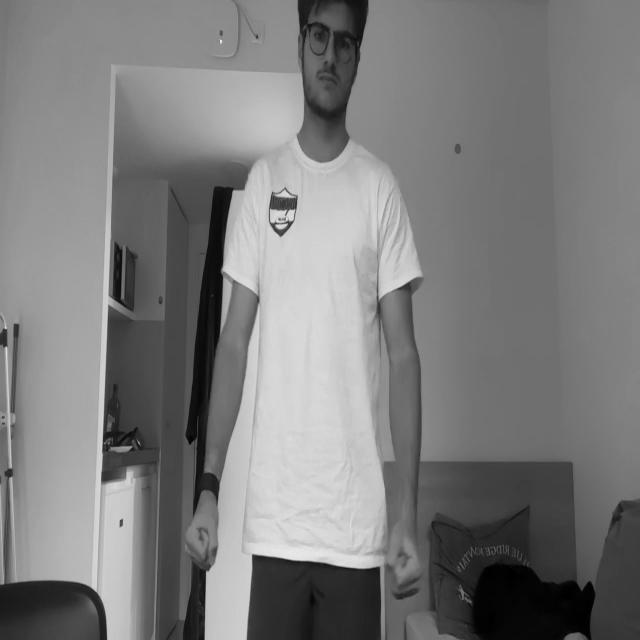elbow: (217, 312, 251, 368), (386, 336, 421, 386)
hand: (183, 496, 221, 572), (386, 523, 422, 598)
shoulder: (377, 168, 411, 258), (240, 156, 266, 237)
